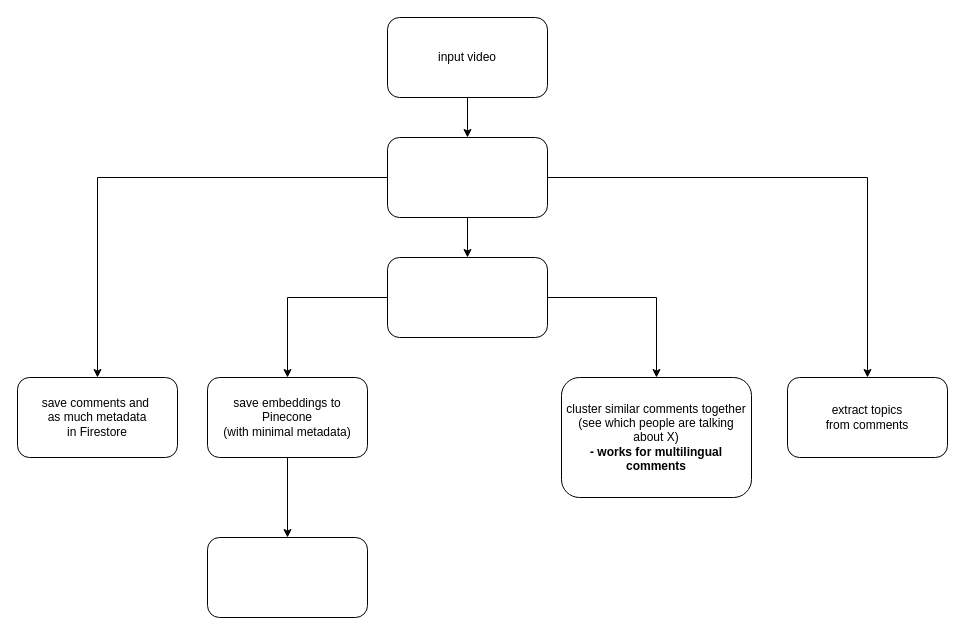
Some shapes in this 965 by 635 pixel diagram are drawn without their labels. Here are the shapes that lost their labels. From the top down, the centre of each, then its label:
point (467, 177): extract comments
point (467, 297): extract embeddings (Cohere)
point (287, 577): Allows for Q&A on the direct comments
